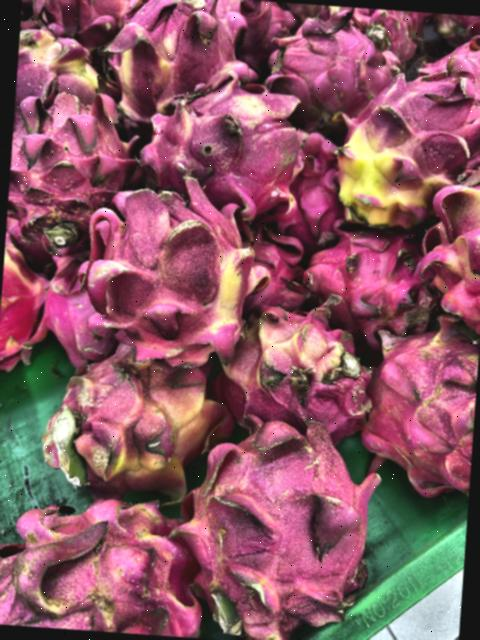buah-naga-belum-matang: (78, 176, 265, 364), (42, 338, 228, 490), (142, 62, 314, 212), (345, 60, 480, 235), (223, 300, 372, 438), (110, 0, 244, 115), (420, 163, 480, 329), (15, 28, 111, 106), (0, 230, 49, 366)
buah-naga-matang: (178, 410, 381, 640), (0, 479, 210, 637), (363, 318, 480, 492), (6, 88, 131, 240), (302, 225, 434, 337), (266, 10, 390, 125), (35, 252, 118, 356), (272, 126, 348, 239), (252, 226, 308, 311), (20, 0, 126, 34)
